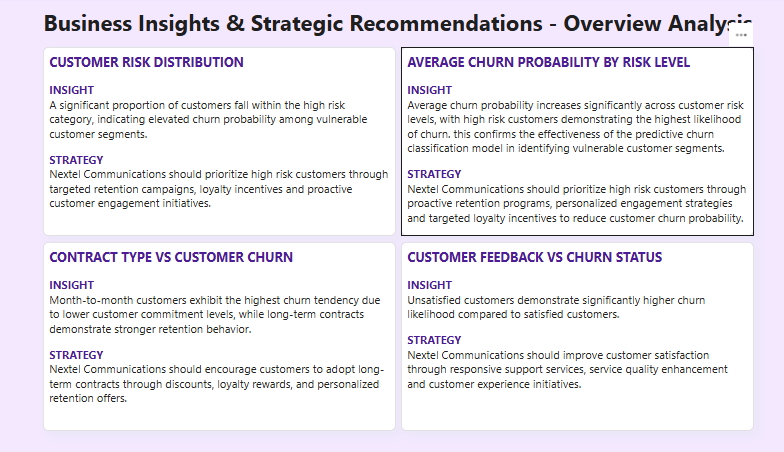

Layout of this report page (visuals, bound fields, positions):
{"tool":"powerbi","page":{"name":"Business Insights & Retention Recommendations for Page 1","canvas":[1280,720],"ordinal":2},"visuals":[{"type":"textbox","box":[121.4,10.1,1041,63.6],"z":0},{"type":"textbox","box":[125.8,73.7,510,273.3],"z":1000},{"type":"textbox","box":[643.4,73.7,510.4,273.3],"z":2000},{"type":"textbox","box":[125.8,355.7,510.4,273.3],"z":3000},{"type":"textbox","box":[643.4,355.7,510.4,273.3],"z":4000}]}

Visuals, with their boxes in screenshot pixels (x1, y1, x2, y2), scaled from the page's 1280x720 canvas onto the 784x452 screenshot:
textbox: crop(74, 6, 712, 46)
textbox: crop(77, 46, 389, 218)
textbox: crop(394, 46, 707, 218)
textbox: crop(77, 223, 390, 395)
textbox: crop(394, 223, 707, 395)
